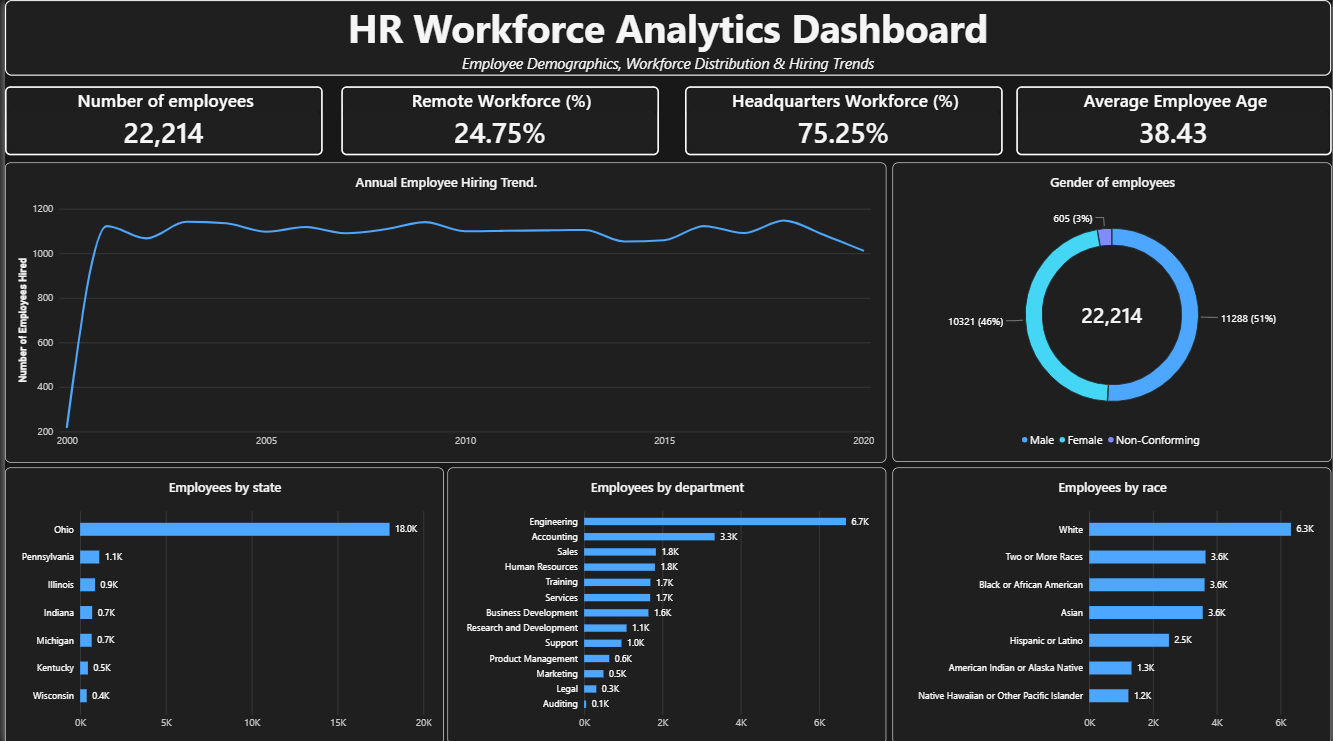

What the dashboard file says about the page in this screenshot:
{"tool":"powerbi","page":{"name":"Page 1","canvas":[1920,1080],"ordinal":0},"visuals":[{"type":"cardVisual","title":"Number of employees","fields":{"Data":["project_hr_analytics HR.Total Employees"]},"box":[0,124.5,460.3,100],"z":0},{"type":"lineChart","title":"Annual Employee Hiring Trend.","fields":{"Category":["project_hr_analytics HR.hire_date.Variation.Date Hierarchy.Year"],"Y":["project_hr_analytics HR.Total Hires"]},"box":[0,235.3,1275.8,434.3],"z":1000},{"type":"donutChart","title":"Gender of employees","fields":{"Category":["project_hr_analytics HR.gender"],"Y":["CountNonNull(project_hr_analytics HR.id)"]},"box":[1284.9,235.3,635.7,433.9],"z":2000},{"type":"barChart","title":"Employees by state","fields":{"Category":["project_hr_analytics HR.location_state"],"Y":["Count(project_hr_analytics HR.id)"]},"box":[0,677.2,635,401],"z":3000},{"type":"clusteredBarChart","title":"Employees by department","fields":{"Category":["project_hr_analytics HR.department"],"Y":["CountNonNull(project_hr_analytics HR.id)"]},"box":[641.4,677.2,635,401],"z":4000},{"type":"clusteredBarChart","title":"Employees by race","fields":{"Category":["project_hr_analytics HR.race"],"Y":["CountNonNull(project_hr_analytics HR.id)"]},"box":[1284.7,677.2,635,401],"z":5000},{"type":"cardVisual","title":"Remote Workforce (%)","fields":{"Data":["project_hr_analytics HR.Remote Employees %"]},"box":[486.7,124.5,460,100],"z":6000},{"type":"cardVisual","title":"Headquarters Workforce (%)","fields":{"Data":["project_hr_analytics HR.HQ Employees %"]},"box":[984.7,124.5,460,100],"z":7000},{"type":"cardVisual","title":"Average Employee Age","fields":{"Data":["Avg(project_hr_analytics HR.Age)"]},"box":[1463.9,124.5,456.5,100],"z":8000},{"type":"textbox","box":[0,0,1920.4,109.4],"z":9000}]}

Visuals, with their boxes in screenshot pixels (x1, y1, x2, y2), scaled from the page's 1920x1080 canvas onto the 1333x741 screenshot:
"Number of employees" cardVisual: 0,85,320,154
"Annual Employee Hiring Trend." lineChart: 0,161,886,459
"Gender of employees" donutChart: 892,161,1332,459
"Employees by state" barChart: 0,465,441,740
"Employees by department" clusteredBarChart: 445,465,886,740
"Employees by race" clusteredBarChart: 892,465,1332,740
"Remote Workforce (%)" cardVisual: 338,85,657,154
"Headquarters Workforce (%)" cardVisual: 684,85,1003,154
"Average Employee Age" cardVisual: 1016,85,1332,154
textbox: 0,0,1332,75
